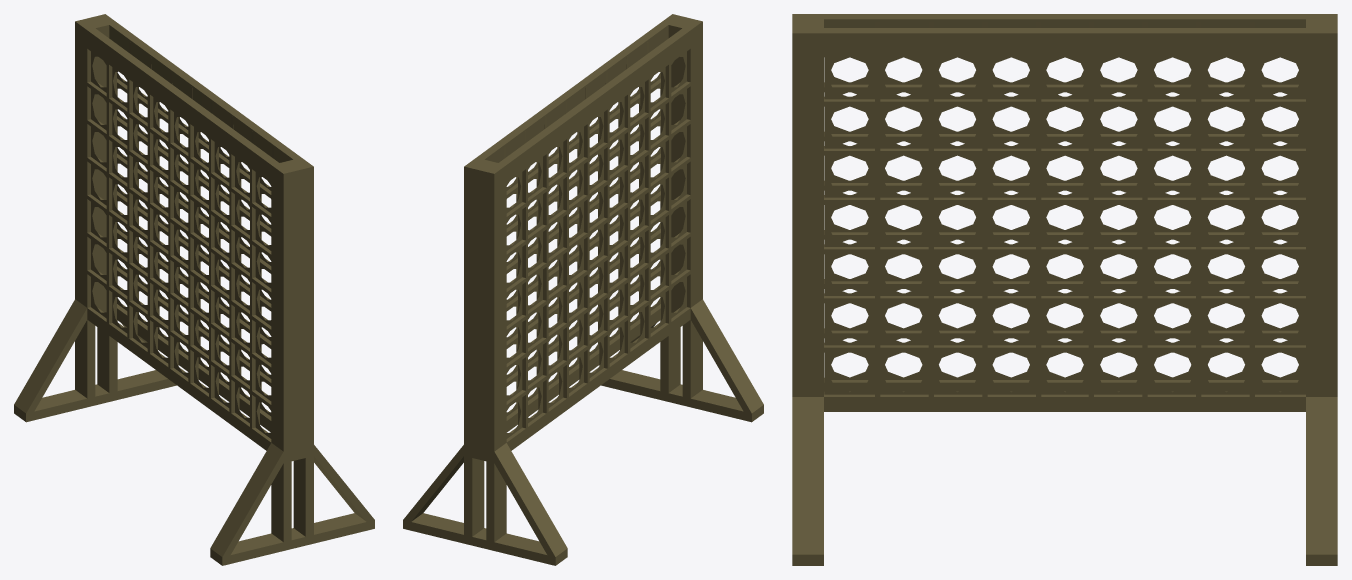
Rendered from Board.fbx.
3 renders of one model, left to right at view 1: azimuth 30°, elevation 25°; view 2: azimuth 150°, elevation 25°; view 3: azimuth 270°, elevation 25°, orthographic. The views are drawn at different scales.
Visible parts, largest first — view 1: Cube, Plane; view 2: Cube, Plane; view 3: Cube, Plane.
Boxes of the visible parts, x1,y1,x2,y2 form: Cube: (14, 14, 374, 565); Plane: (91, 51, 271, 438); Cube: (403, 14, 763, 565); Plane: (506, 51, 686, 438); Cube: (792, 14, 1337, 565); Plane: (824, 57, 1305, 394).
Bounding box in the file's own units: 713 × 1684 × 1687.
